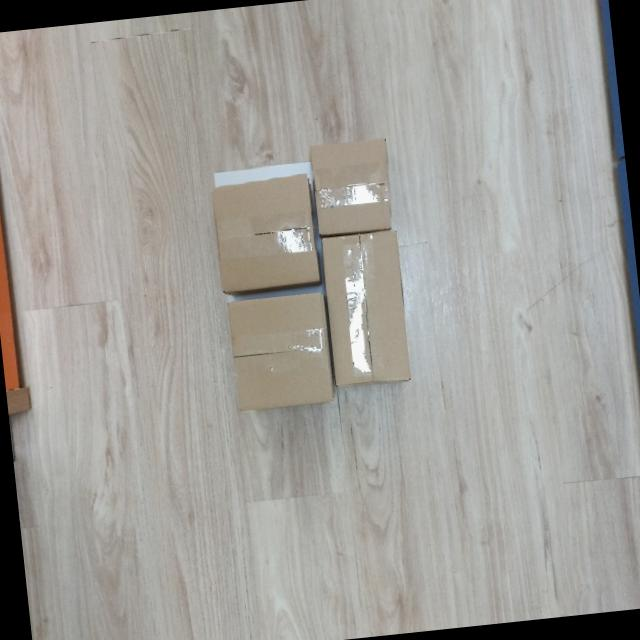box: (316, 226, 416, 393), (217, 283, 338, 417), (208, 173, 324, 297), (303, 131, 401, 237)
